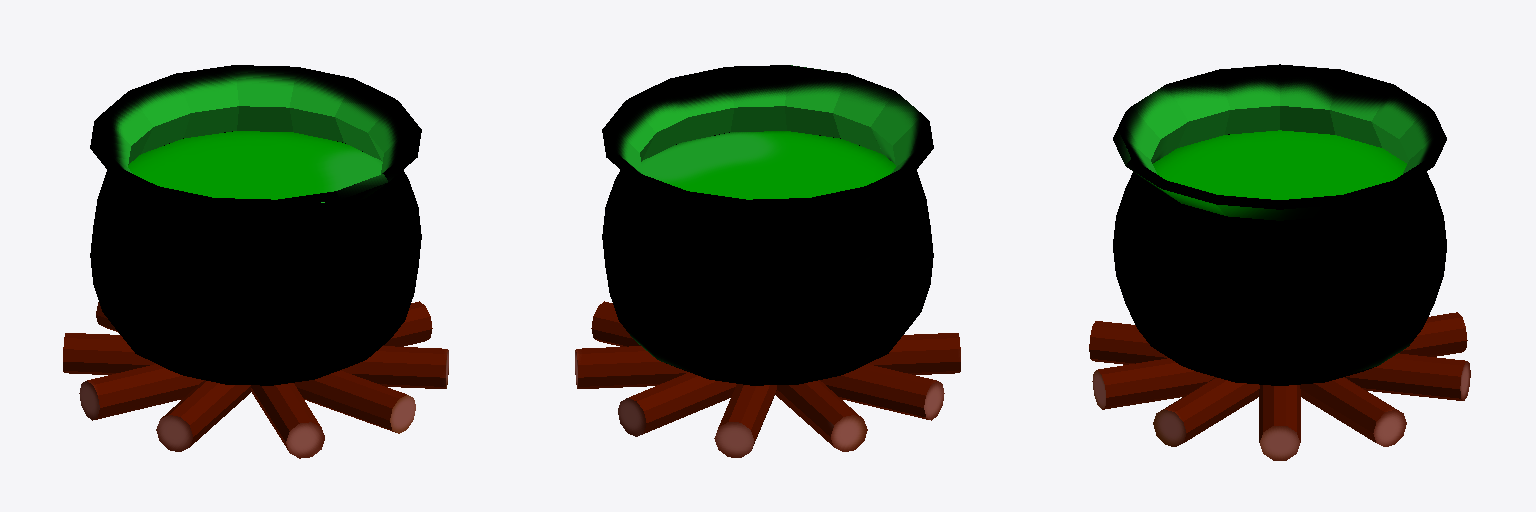
The picture shows the model from 3 angles: view 1: azimuth 30°, elevation 25°; view 2: azimuth 150°, elevation 25°; view 3: azimuth 270°, elevation 25°; orthographic projection.
Parts seen in each view (by area): view 1: Cauldron, Wood; view 2: Cauldron, Wood; view 3: Cauldron, Wood.
Boxes of the visible parts, x1,y1,x2,y2 form: Cauldron: [90, 65, 421, 385]; Wood: [63, 301, 448, 458]; Cauldron: [602, 65, 933, 385]; Wood: [575, 301, 960, 457]; Cauldron: [1113, 64, 1446, 385]; Wood: [1089, 312, 1470, 460].
Size of the model in its own units: 2.3 by 1.63 by 2.28.
2 materials, 2 textured.